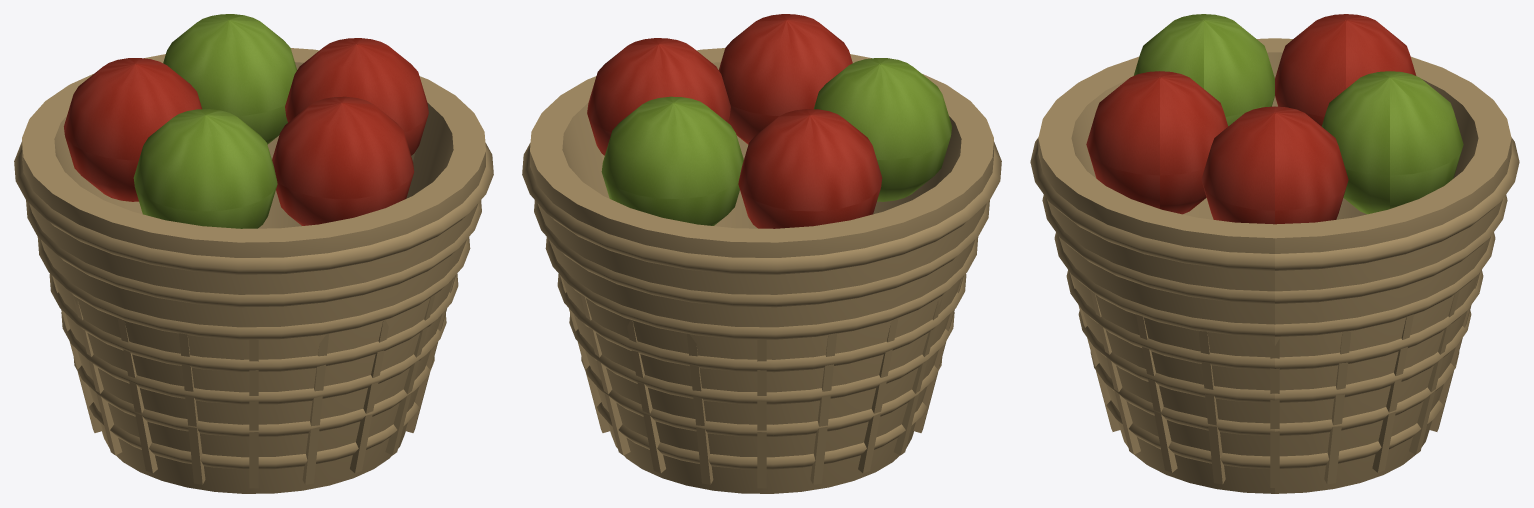
File: Produce_Basket.fbx
3 views of the same model, side by side, from view 1: azimuth 30°, elevation 25°; view 2: azimuth 150°, elevation 25°; view 3: azimuth 270°, elevation 25° (orthographic).
Visible parts, largest first — view 1: Woven basket body.005, Basket apple.004, Basket apple.003, Basket apple.002, Basket apple.001, Horizontal wicker braid.041, Basket apple, Horizontal wicker braid.040, Horizontal wicker braid.039, Horizontal wicker braid.038, Horizontal wicker braid.037, Horizontal wicker braid.036 (+10 smaller); view 2: Woven basket body.005, Basket apple.001, Basket apple.002, Basket apple.003, Basket apple.004, Horizontal wicker braid.041, Basket apple, Horizontal wicker braid.040, Horizontal wicker braid.039, Horizontal wicker braid.038, Horizontal wicker braid.037, Horizontal wicker braid.036 (+10 smaller); view 3: Woven basket body.005, Basket apple.001, Basket apple.004, Basket apple, Horizontal wicker braid.041, Basket apple.002, Basket apple.003, Horizontal wicker braid.040, Horizontal wicker braid.039, Horizontal wicker braid.038, Horizontal wicker braid.037, Horizontal wicker braid.036 (+10 smaller).
Boxes of the visible parts, left/top/right/bottom form: Woven basket body.005: left=22, top=48, right=485, bottom=493; Basket apple.004: left=272, top=96, right=414, bottom=225; Basket apple.003: left=133, top=109, right=277, bottom=228; Basket apple.002: left=64, top=58, right=201, bottom=201; Basket apple.001: left=163, top=14, right=296, bottom=144; Horizontal wicker braid.041: left=14, top=142, right=493, bottom=274; Basket apple: left=285, top=38, right=428, bottom=155; Horizontal wicker braid.040: left=26, top=200, right=481, bottom=307; Horizontal wicker braid.039: left=37, top=237, right=470, bottom=339; Horizontal wicker braid.038: left=49, top=273, right=458, bottom=372; Horizontal wicker braid.037: left=61, top=312, right=446, bottom=404; Horizontal wicker braid.036: left=73, top=356, right=434, bottom=436; Woven basket body.005: left=530, top=48, right=993, bottom=493; Basket apple.001: left=601, top=96, right=743, bottom=225; Basket apple.002: left=738, top=109, right=882, bottom=228; Basket apple.003: left=814, top=58, right=951, bottom=201; Basket apple.004: left=719, top=14, right=852, bottom=144; Horizontal wicker braid.041: left=522, top=142, right=1001, bottom=274; Basket apple: left=587, top=38, right=730, bottom=155; Horizontal wicker braid.040: left=534, top=200, right=989, bottom=307; Horizontal wicker braid.039: left=545, top=237, right=978, bottom=339; Horizontal wicker braid.038: left=557, top=273, right=966, bottom=372; Horizontal wicker braid.037: left=569, top=312, right=954, bottom=404; Horizontal wicker braid.036: left=581, top=356, right=942, bottom=436; Woven basket body.005: left=1038, top=38, right=1511, bottom=493; Basket apple.001: left=1321, top=71, right=1463, bottom=214; Basket apple.004: left=1086, top=71, right=1228, bottom=214; Basket apple: left=1201, top=106, right=1348, bottom=224; Horizontal wicker braid.041: left=1030, top=137, right=1519, bottom=270; Basket apple.002: left=1275, top=14, right=1416, bottom=126; Basket apple.003: left=1133, top=14, right=1274, bottom=126; Horizontal wicker braid.040: left=1042, top=194, right=1507, bottom=303; Horizontal wicker braid.039: left=1054, top=232, right=1495, bottom=336; Horizontal wicker braid.038: left=1066, top=270, right=1483, bottom=369; Horizontal wicker braid.037: left=1078, top=310, right=1471, bottom=402; Horizontal wicker braid.036: left=1090, top=352, right=1459, bottom=435.
Size of the model in its own units: 93.03 by 77 by 93.03.
